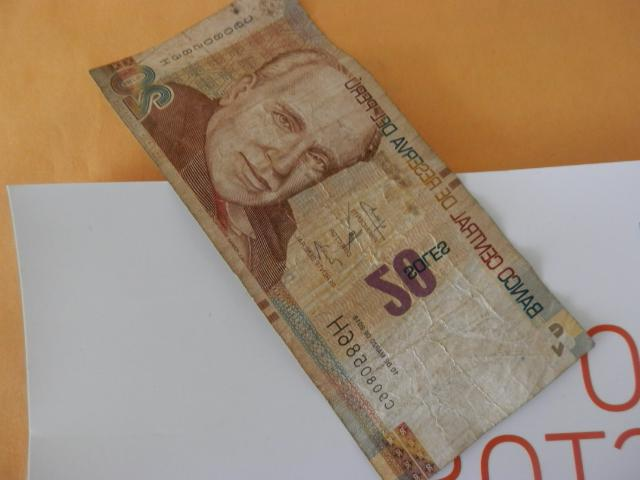B20: (86, 1, 597, 480)
